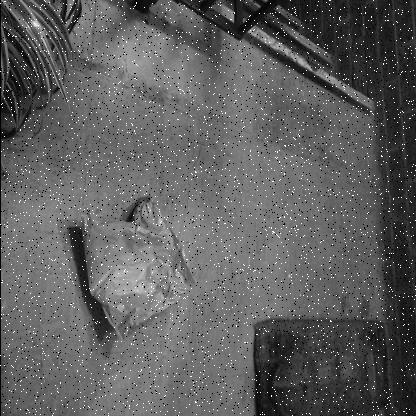paper: (78, 195, 196, 344)
